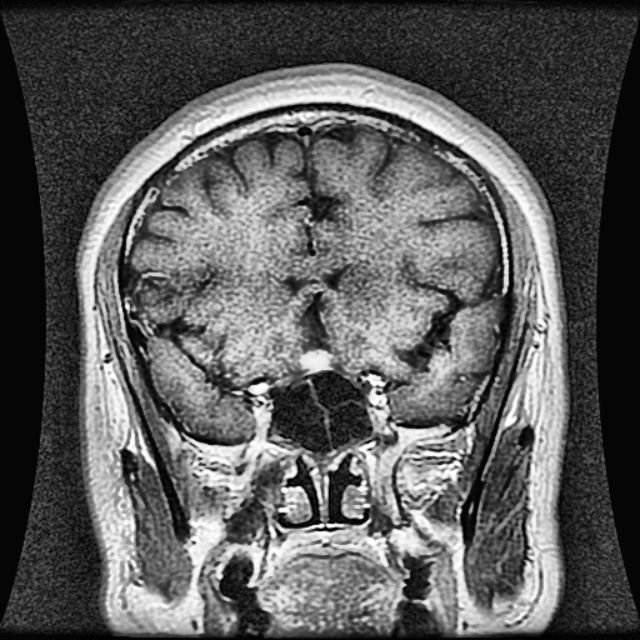Pituitary: (297, 347, 337, 375)
